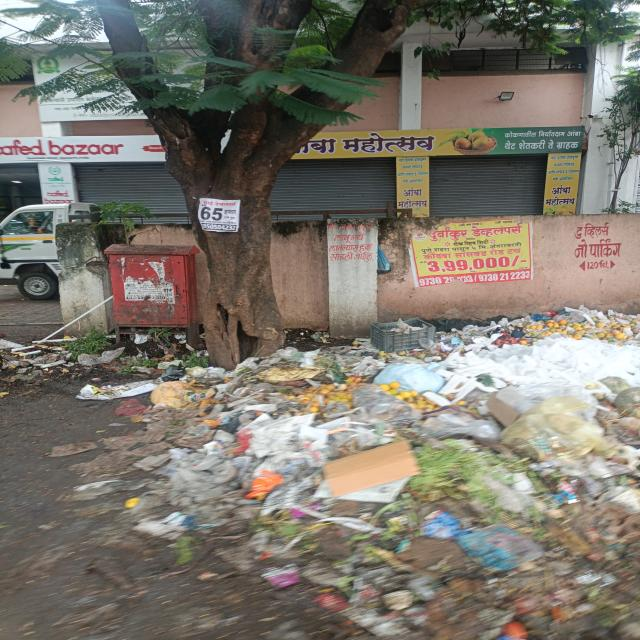garbage: (186, 310, 640, 640)
